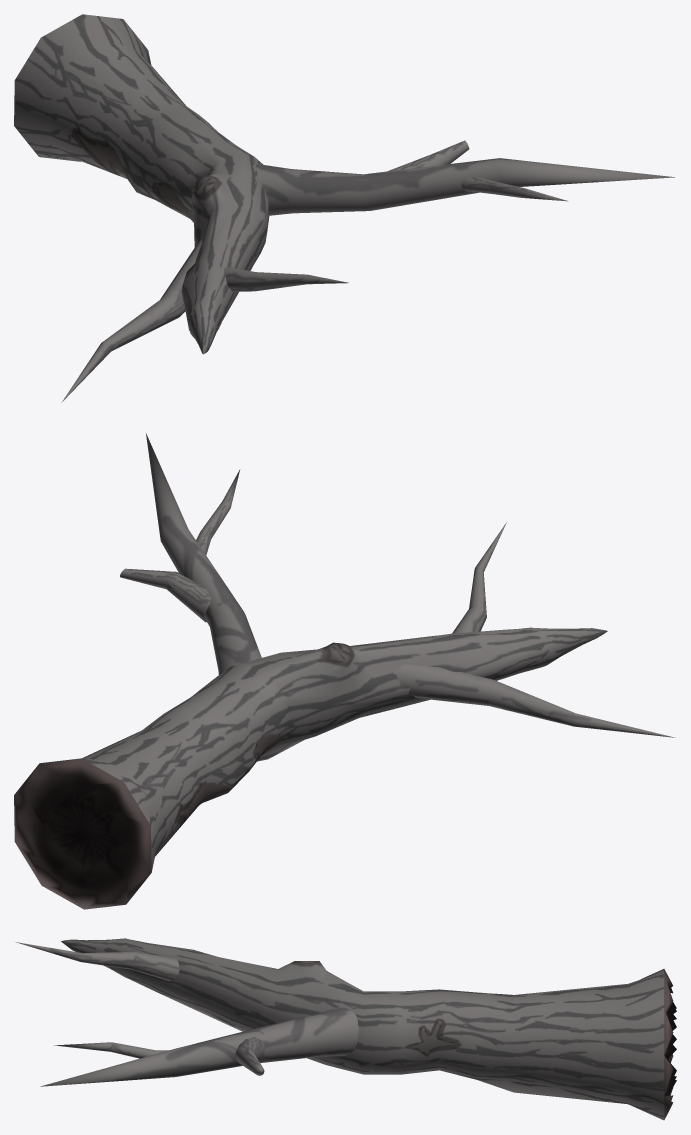
The model's file is Model_Bg_Deadtree.fbx.
The picture shows the model from 3 angles, top to bottom: view 1: azimuth 30°, elevation 25°; view 2: azimuth 150°, elevation 25°; view 3: azimuth 270°, elevation 25°; orthographic projection. The views are drawn at different scales.
Parts seen in each view (by area): view 1: pCylinder1, pCone2, pCone4, pCone6, pCone1, pCone5; view 2: pCylinder1, pCone2, pCone4, pCone5, pCone6, pCone1; view 3: pCylinder1, pCone2, pCone6, pCone5, pCone1.
Part boxes in pixels (x1,y1,x2,y2): pCylinder1: (14, 14, 269, 354); pCone2: (255, 158, 674, 215); pCone4: (61, 239, 202, 402); pCone6: (224, 267, 348, 291); pCone1: (461, 177, 568, 201); pCone5: (387, 140, 469, 171); pCylinder1: (14, 627, 607, 909); pCone2: (146, 433, 261, 674); pCone4: (392, 664, 675, 737); pCone5: (120, 568, 210, 622); pCone6: (452, 522, 506, 633); pCone1: (196, 469, 240, 554); pCylinder1: (61, 938, 676, 1120); pCone2: (40, 1007, 358, 1086); pCone6: (15, 942, 179, 981); pCone5: (235, 1037, 265, 1075); pCone1: (54, 1042, 168, 1058).
Size of the model in its own units: 234 by 62.94 by 249.
